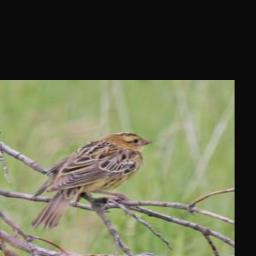Sparrow: (29, 131, 154, 232)
